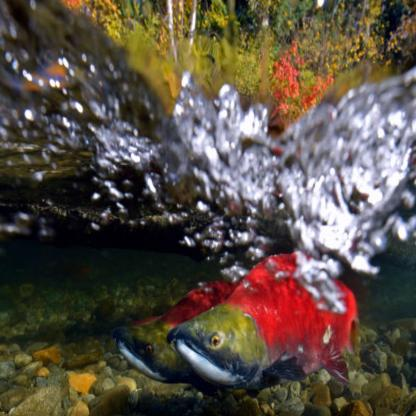sockeye: (178, 237, 348, 388), (124, 239, 234, 380)
